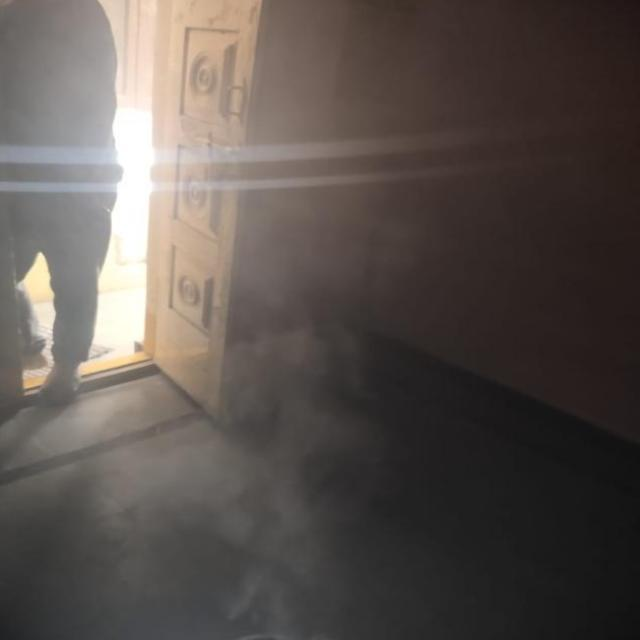fire: (116, 276, 378, 630)
